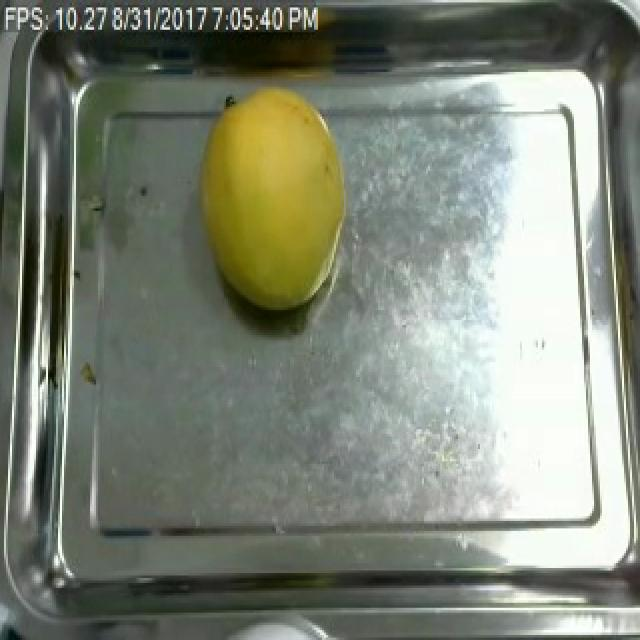fruit: (184, 80, 358, 328)
